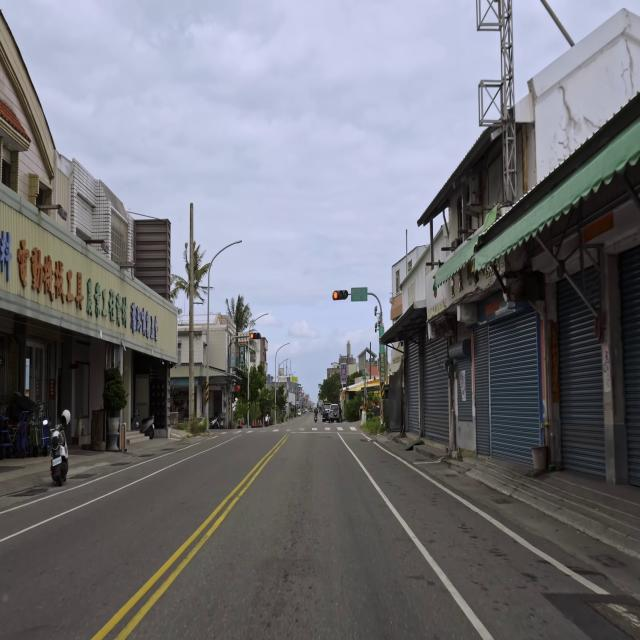red light: (332, 291, 349, 300), (250, 332, 261, 340)
